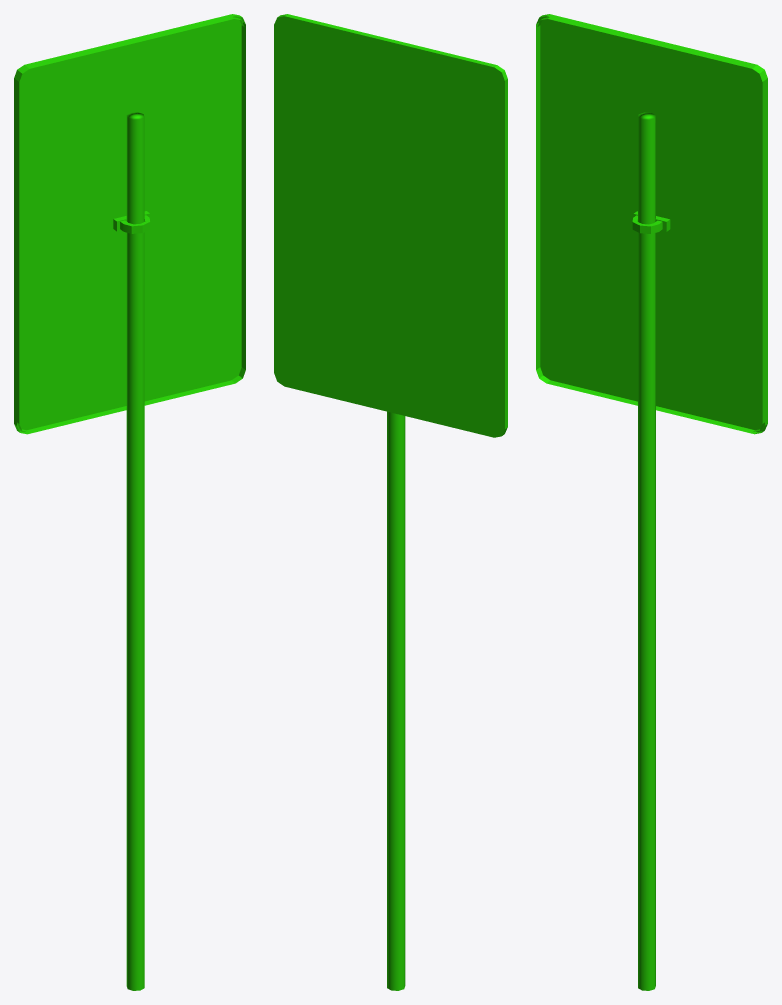
File: Road_Sign_Base_03_Lod0.fbx
3 views of the same model, side by side, from view 1: azimuth 30°, elevation 25°; view 2: azimuth 150°, elevation 25°; view 3: azimuth 330°, elevation 25° (orthographic).
Parts seen in each view (by area): view 1: Road_Sign_Base_03_Lod0; view 2: Road_Sign_Base_03_Lod0; view 3: Road_Sign_Base_03_Lod0.
Part boxes in pixels (<box>): Road_Sign_Base_03_Lod0: <box>14,14,245,990</box>; Road_Sign_Base_03_Lod0: <box>274,14,507,990</box>; Road_Sign_Base_03_Lod0: <box>536,14,767,990</box>.
Size of the model in its own units: 47.7 by 188 by 5.02.
